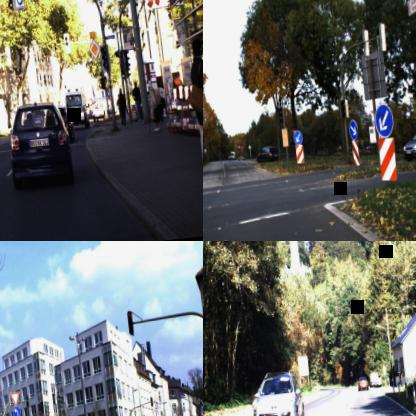give way: (8, 390, 21, 407)
go left or straight: (11, 404, 20, 416)
keep left: (373, 101, 394, 138), (292, 130, 302, 144)
keep right: (348, 118, 358, 140)
priority road: (87, 37, 101, 60)
